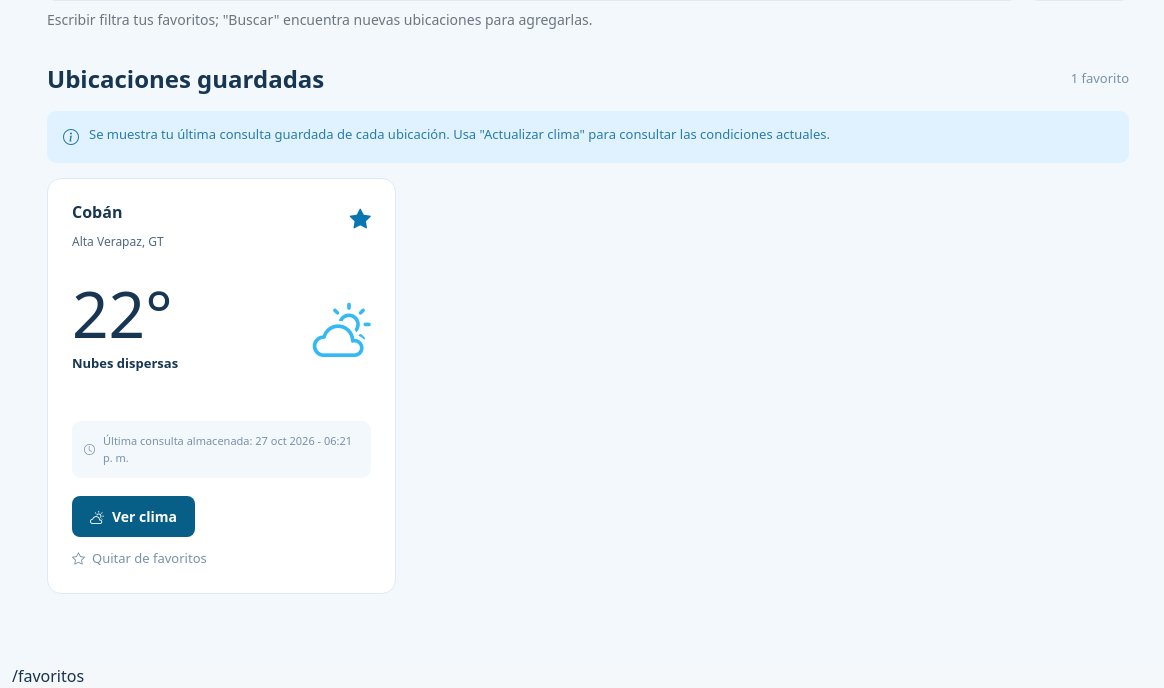
Scenario: M07 – favoritos › quita un favorito con DELETE y actualiza la lista
(page scrolled)
Click the button "Quitar de favoritos".
click(139, 559)  # box x1=72 y1=549 x2=207 y2=569
(page scrolled)
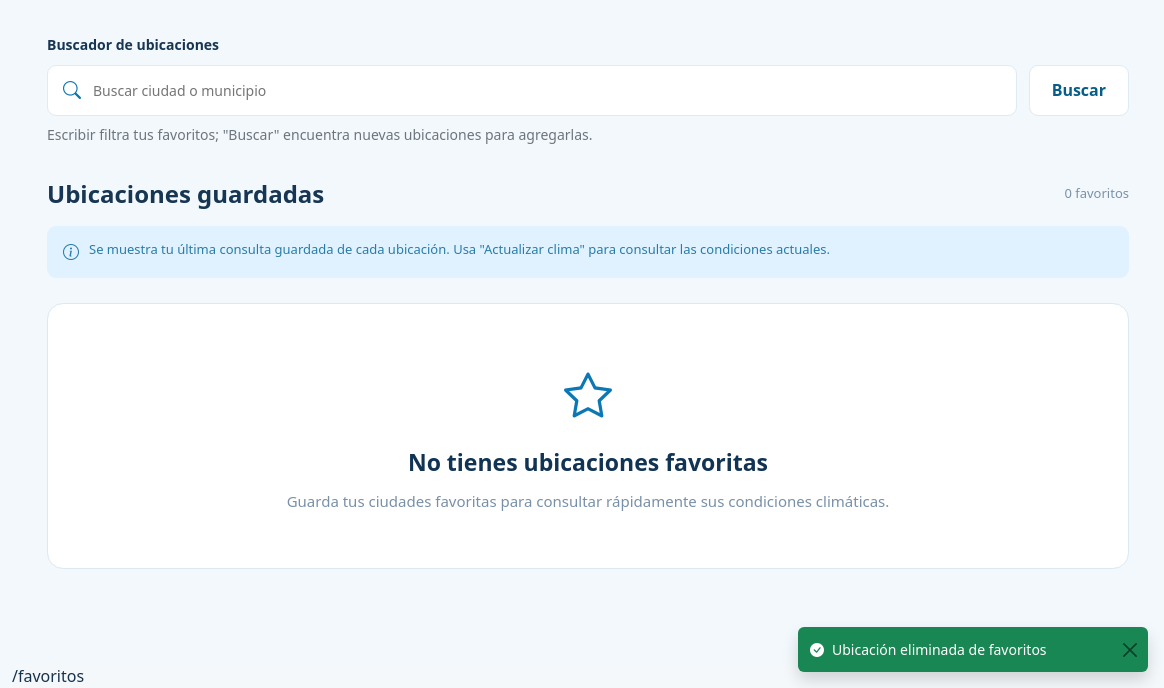
expect the heading "No tienes ubicaciones favoritas" is shown: met, box x1=408 y1=446 x2=768 y2=478
